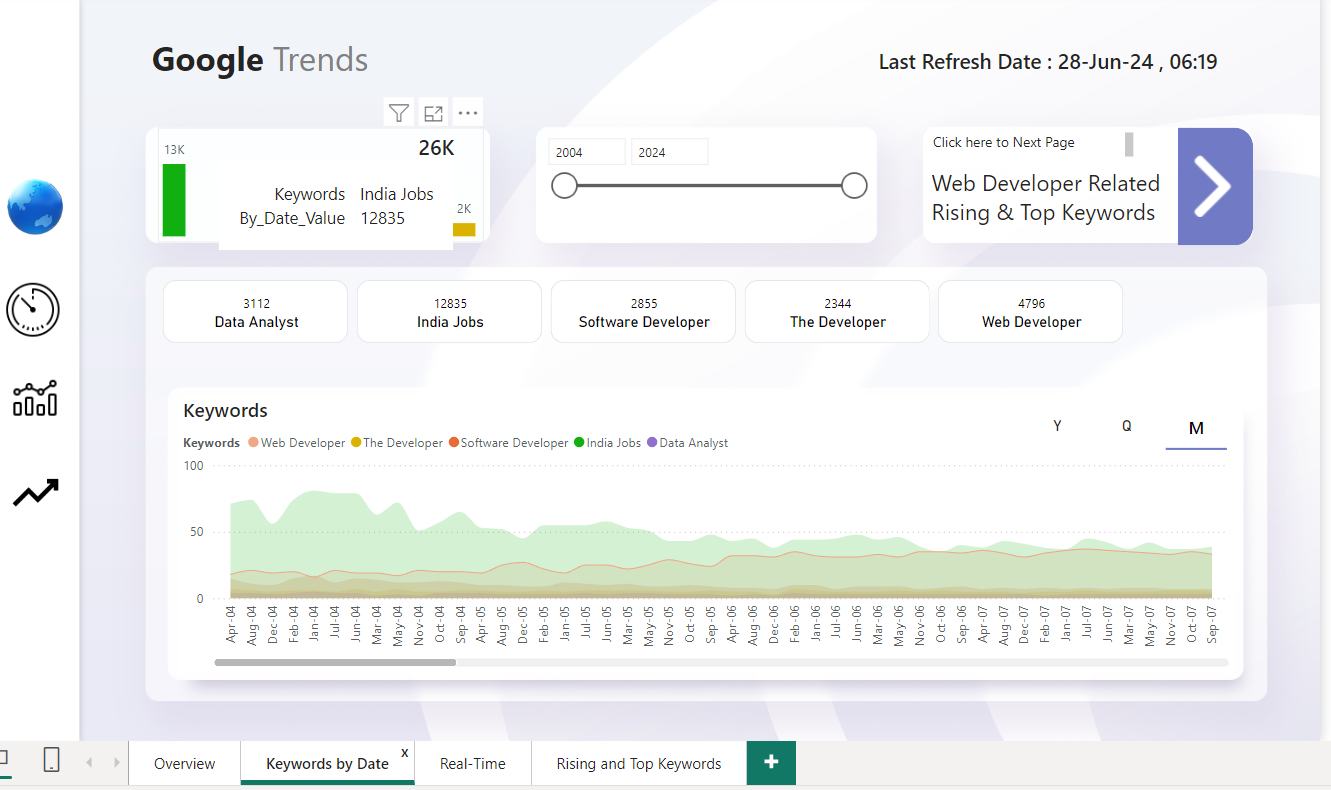

What the dashboard file says about the page in this screenshot:
{"tool":"powerbi","page":{"name":"Keywords by Date","canvas":[1280,720],"ordinal":1},"visuals":[{"type":"areaChart","title":"Keywords","fields":{"Category":["By_Date_API.Month-Yr"],"Y":["By_Date_API.By_Date_Value"],"Series":["By_Date_API.Keywords"]},"box":[177,387,1019.6,266.2],"z":0},{"type":"advancedSlicerVisual","fields":{"Values":["Dynamic_Date.Dynamic_Date"]},"box":[992.1,387,204.5,57.6],"z":1000},{"type":"advancedSlicerVisual","fields":{"Values":["By_Date_API.Keywords"]},"box":[157.8,270.3,937.2,71.4],"z":2000},{"type":"clusteredColumnChart","fields":{"Y":["By_Date_API.By_Date_Value"],"Category":["By_Date_API.Keywords"]},"box":[157.5,127.5,315,111.2],"z":3000},{"type":"card","fields":{"Values":["By_Date_API.By_Date_Value"]},"box":[392.5,127.6,70,57.6],"z":4000},{"type":"slicer","fields":{"Values":["By_Date_API.Year"]},"box":[522.4,127.9,331.8,111],"z":5000},{"type":"textbox","box":[901.5,127.6,203.1,38.4],"z":6000},{"type":"textbox","box":[146.8,34.3,230.5,53.5],"z":7000},{"type":"card","fields":{"Values":["Min(Refresh_Date.Refresh_Date)"]},"box":[819.2,34.3,396.6,64.5],"z":8000},{"type":"actionButton","box":[1143.1,127.6,72.7,113.9],"z":9000},{"type":"shape","box":[905,152.5,230,85],"z":10000},{"type":"image","box":[0,167.5,78.8,73.8],"z":11000},{"type":"image","box":[13.8,453.8,53.8,53.8],"z":12000},{"type":"image","box":[3.8,271,70,66.2],"z":13000},{"type":"image","box":[11.2,360,58.8,58.8],"z":14000}]}

Visuals, with their boxes on the page's 1280x720 design canvas (x1, y1, x2, y2). These are canvas units, not pixel positions in the 1331x790 screenshot, which may show the page scaled, cropped or inside an application window:
"Keywords" areaChart: [x1=177, y1=387, x2=1197, y2=653]
advancedSlicerVisual - Dynamic_Date.Dynamic_Date: [x1=992, y1=387, x2=1197, y2=445]
advancedSlicerVisual - By_Date_API.Keywords: [x1=158, y1=270, x2=1095, y2=342]
clusteredColumnChart - By_Date_API.By_Date_Value x By_Date_API.Keywords: [x1=158, y1=128, x2=472, y2=239]
card - By_Date_API.By_Date_Value: [x1=392, y1=128, x2=462, y2=185]
slicer - By_Date_API.Year: [x1=522, y1=128, x2=854, y2=239]
textbox: [x1=902, y1=128, x2=1105, y2=166]
textbox: [x1=147, y1=34, x2=377, y2=88]
card - Min(Refresh_Date.Refresh_Date): [x1=819, y1=34, x2=1216, y2=99]
actionButton: [x1=1143, y1=128, x2=1216, y2=242]
shape: [x1=905, y1=152, x2=1135, y2=238]
image: [x1=0, y1=168, x2=79, y2=241]
image: [x1=14, y1=454, x2=68, y2=508]
image: [x1=4, y1=271, x2=74, y2=337]
image: [x1=11, y1=360, x2=70, y2=419]
